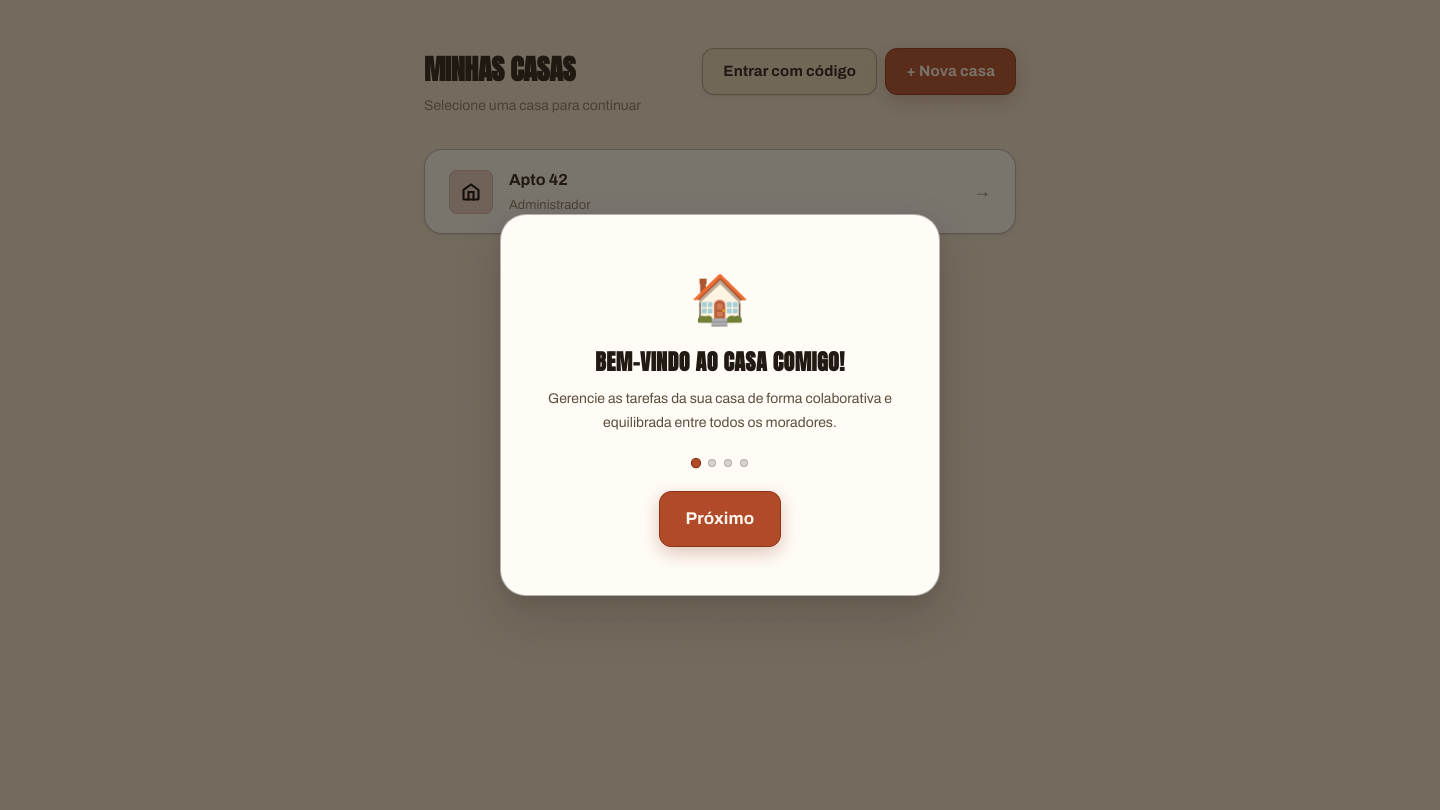
Test: Houses page — onboarding overlay › advances to next onboarding step when Próximo is clicked
Click the button "Próximo" at [720, 519], box [659,491,781,547]
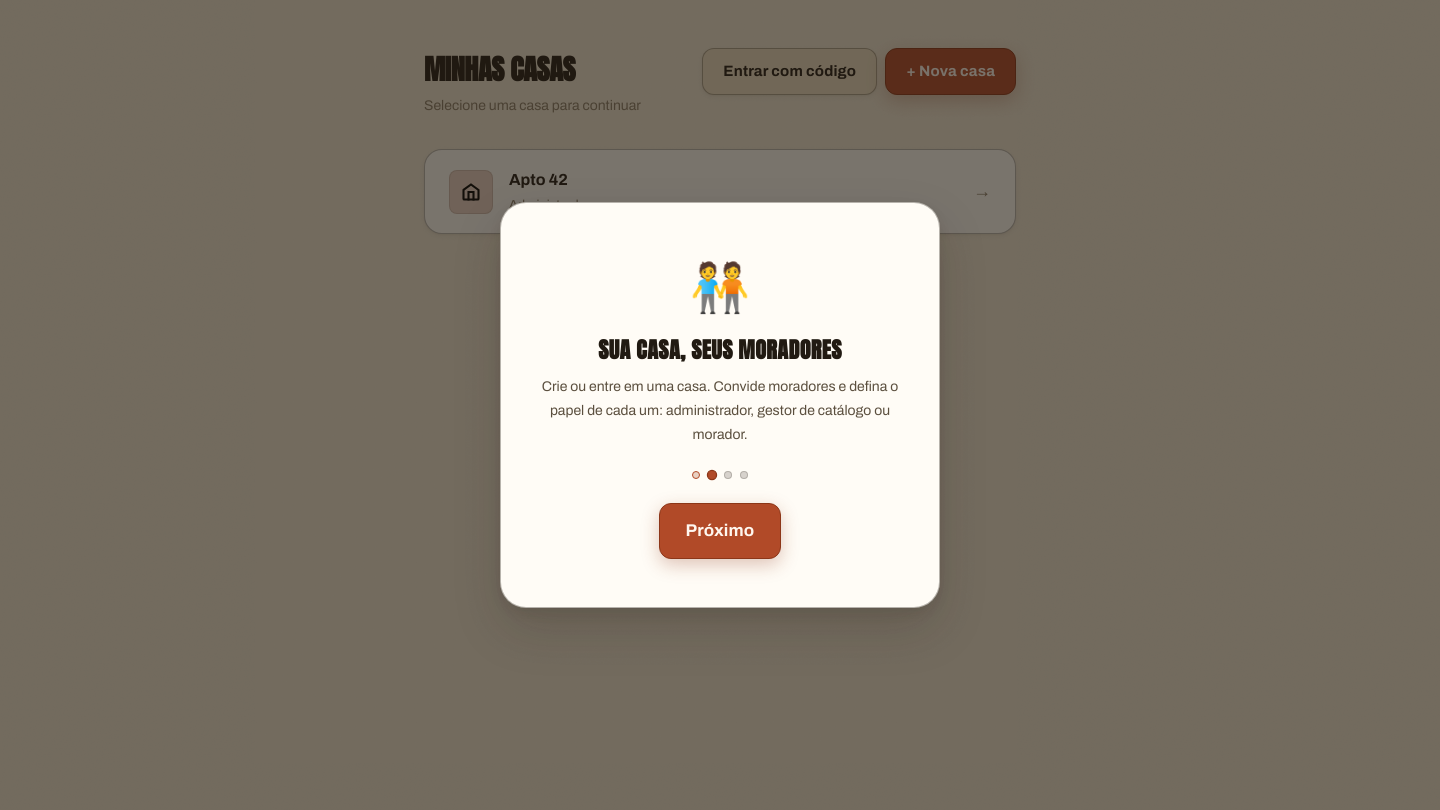
expect the heading "Sua casa, seus moradores" is shown: met, box [598,333,842,366]
